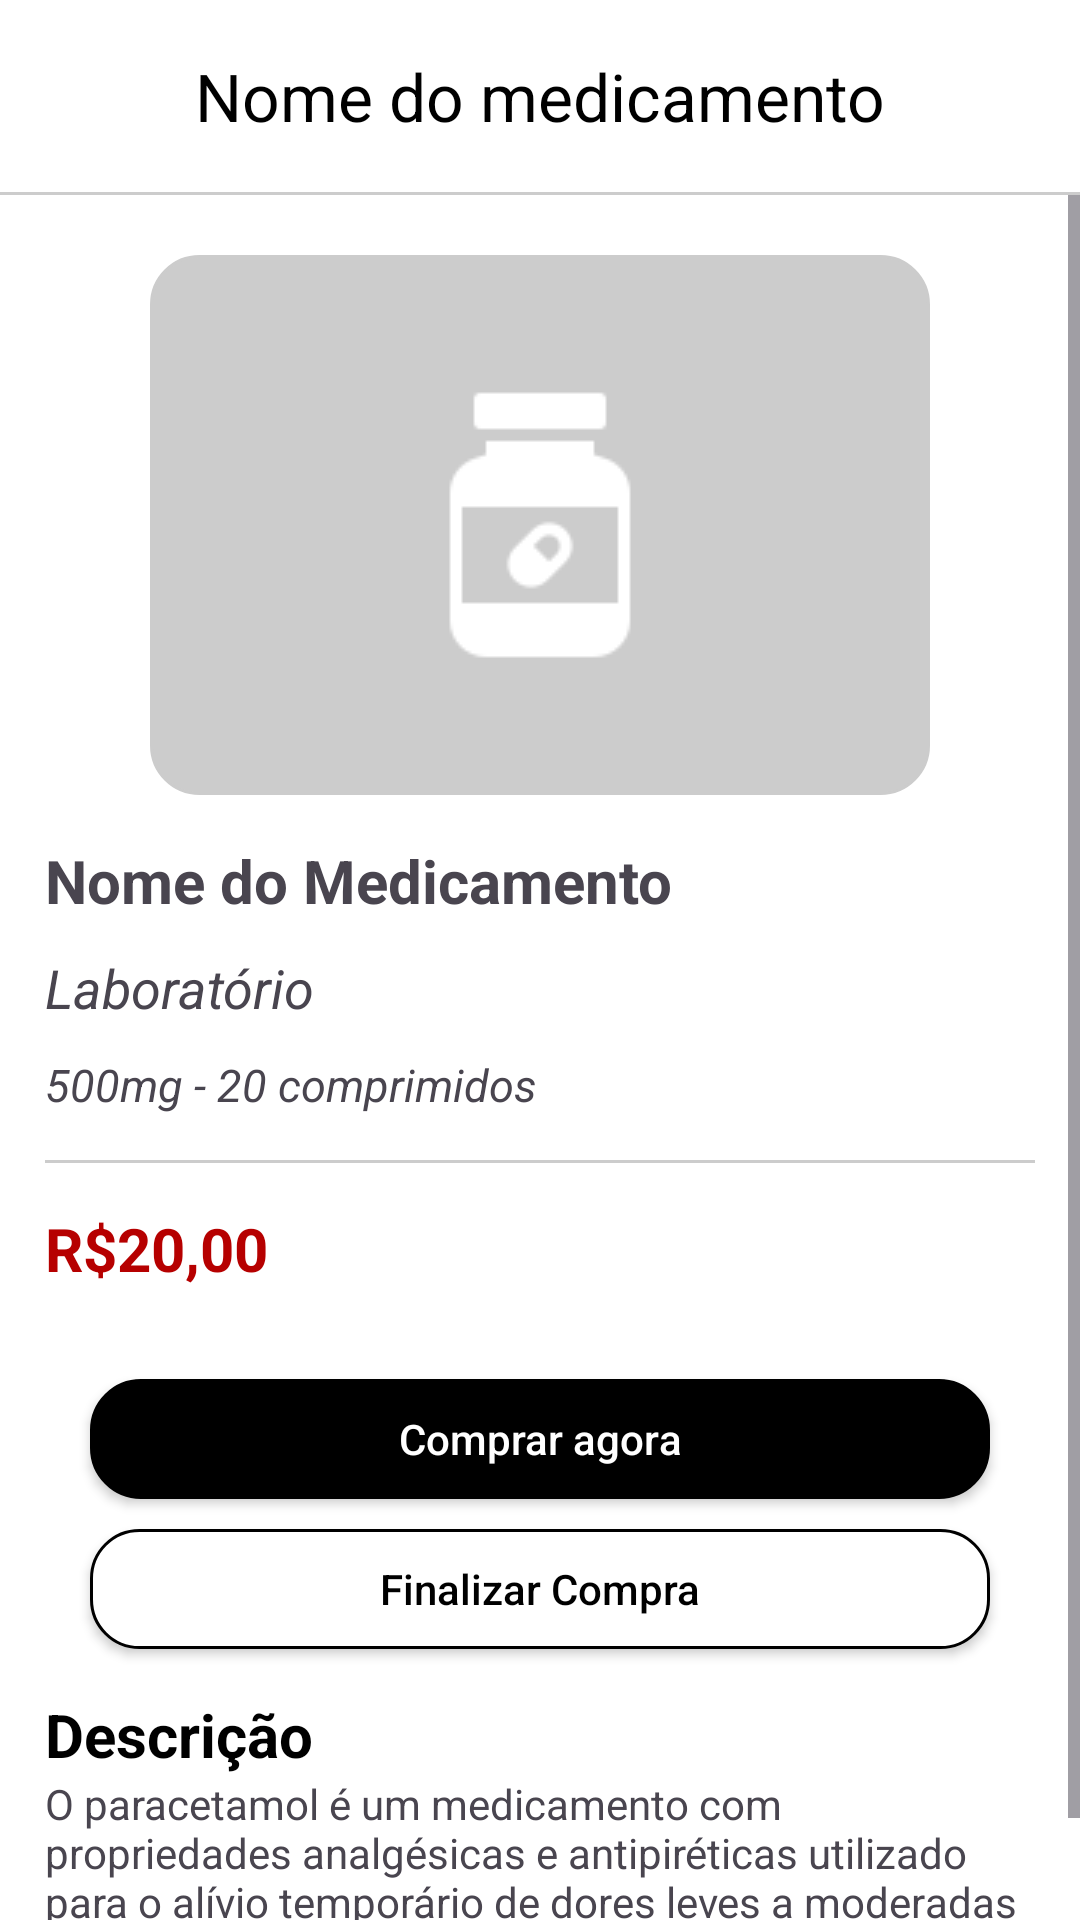

Icon bounding boxes for this 1080px×1920px phone screenshot, format [left=x1, top=y1, right=x2, bottom=y2]:
rem dio: [left=450, top=393, right=630, bottom=657]
